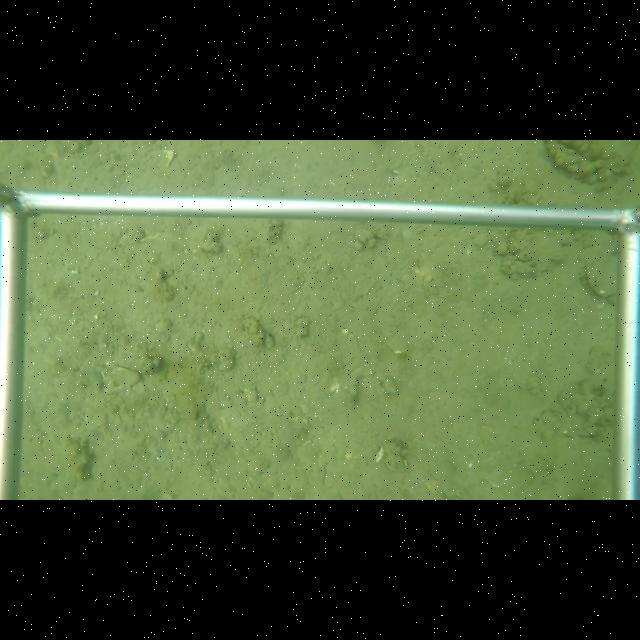Oyster-Open: (577, 245, 618, 302)
